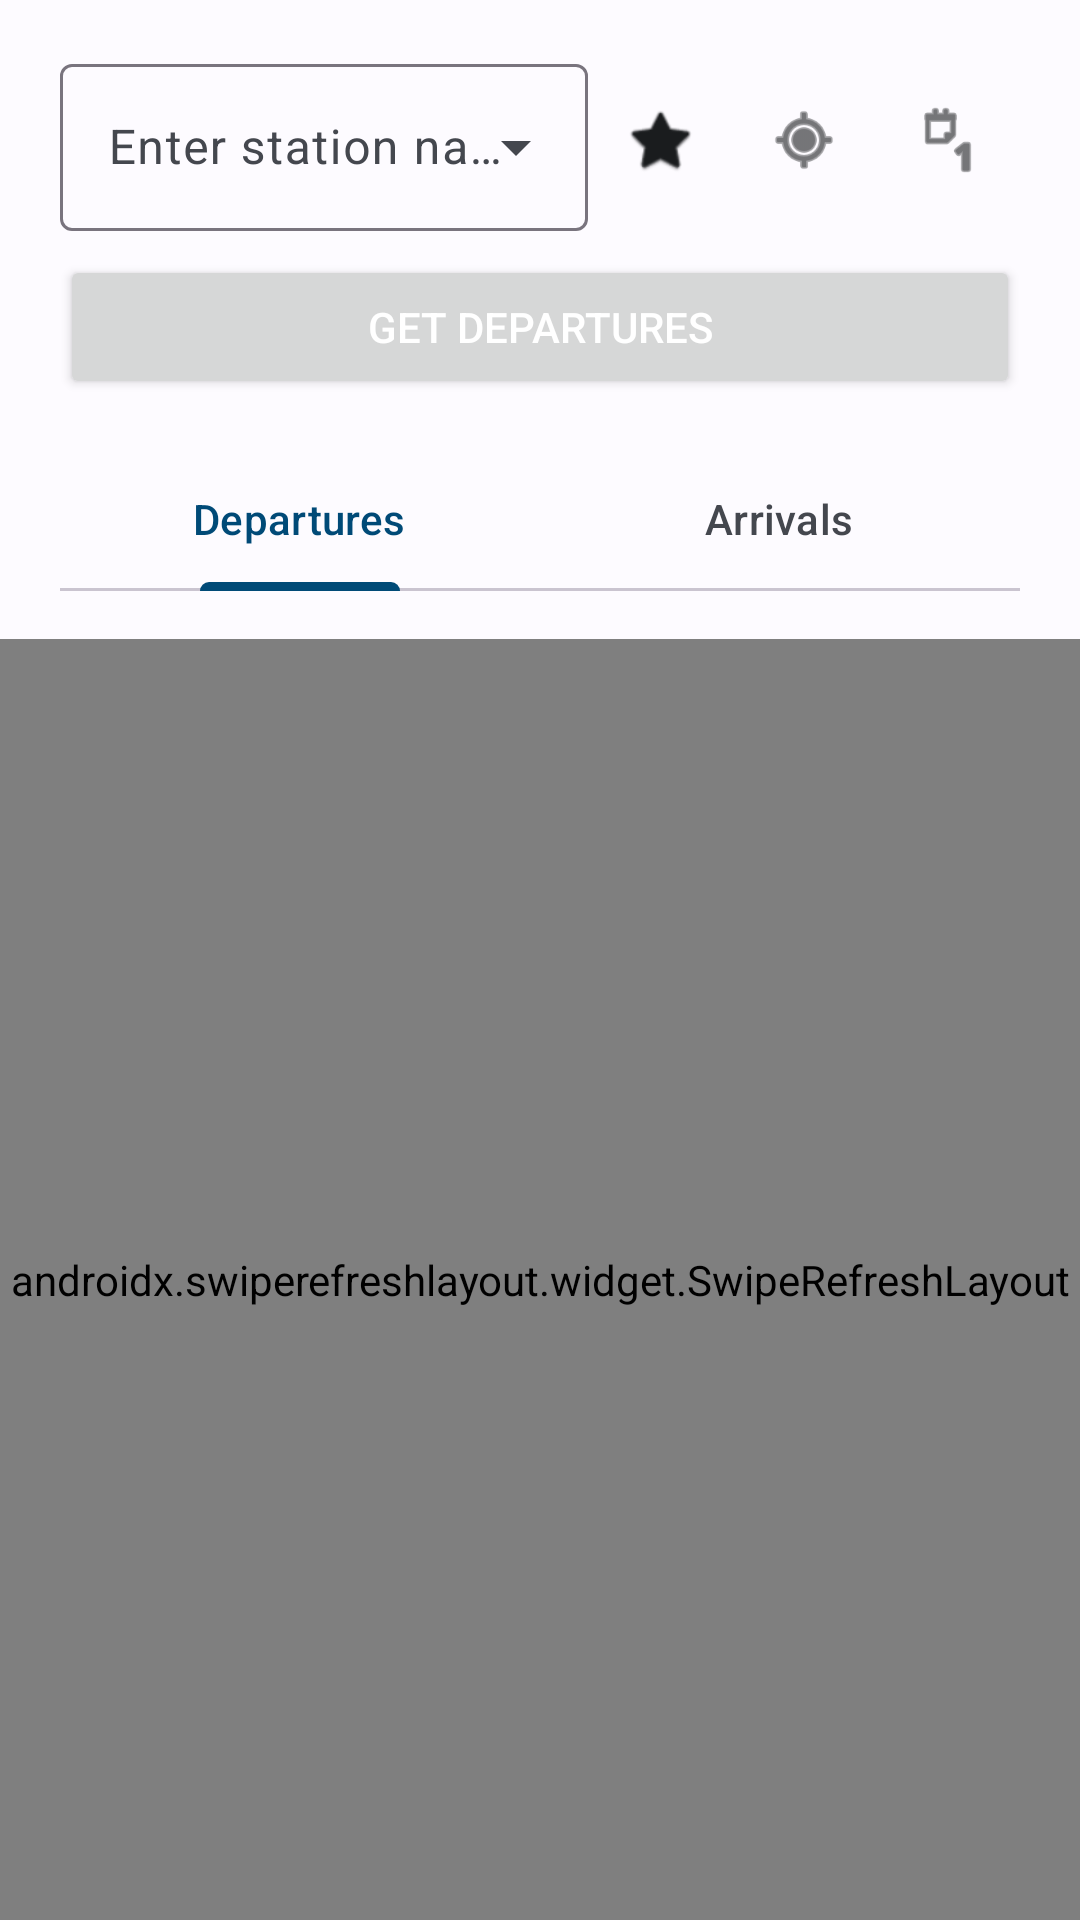

Point at icon controls on the screen. Image size 1080px×1920px, points as point (x, y).
Find nearest station: point (804, 140)
Toggle Favorite: point (661, 140)
